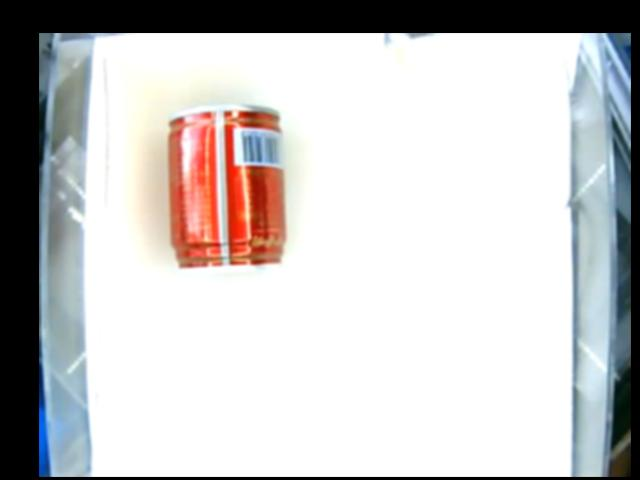Bottle: (166, 105, 284, 272)
